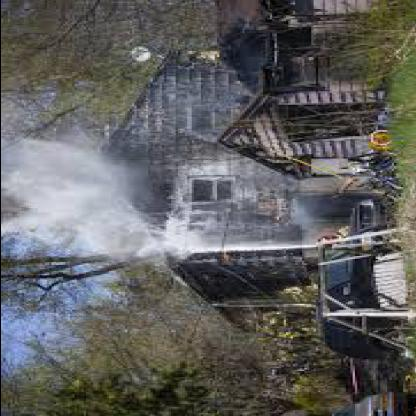Smoke: (21, 164, 155, 240)
